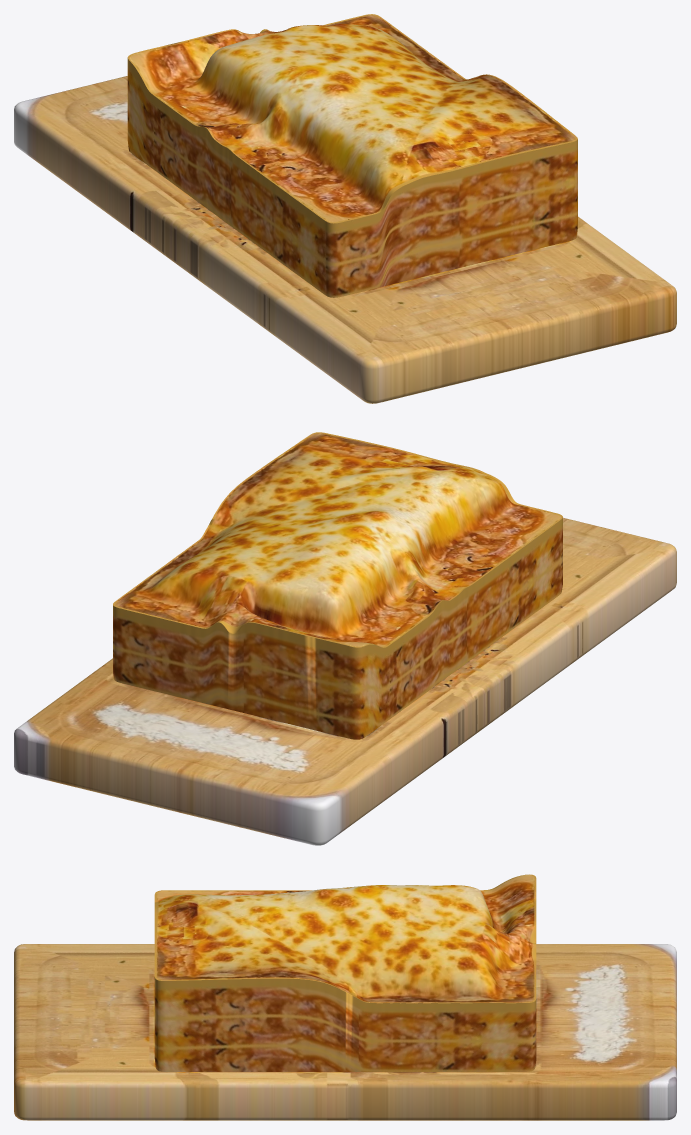
Rendered from lasagna.glb.
3 renders of one model, top to bottom at view 1: azimuth 30°, elevation 25°; view 2: azimuth 150°, elevation 25°; view 3: azimuth 270°, elevation 25°, orthographic. The views are drawn at different scales.
Parts seen in each view (by area): view 1: lasagna_lasagna, lasagna_board; view 2: lasagna_lasagna, lasagna_board; view 3: lasagna_lasagna, lasagna_board.
Boxes of the visible parts, bbox=[...] form: lasagna_lasagna: bbox=[127, 14, 577, 297]; lasagna_board: bbox=[14, 76, 676, 403]; lasagna_lasagna: bbox=[113, 432, 562, 739]; lasagna_board: bbox=[14, 517, 676, 845]; lasagna_lasagna: bbox=[154, 874, 536, 1071]; lasagna_board: bbox=[14, 944, 676, 1120].
Size of the model in its own units: 0.1379 by 0.0692 by 0.2738.
2 materials, 2 textured.
